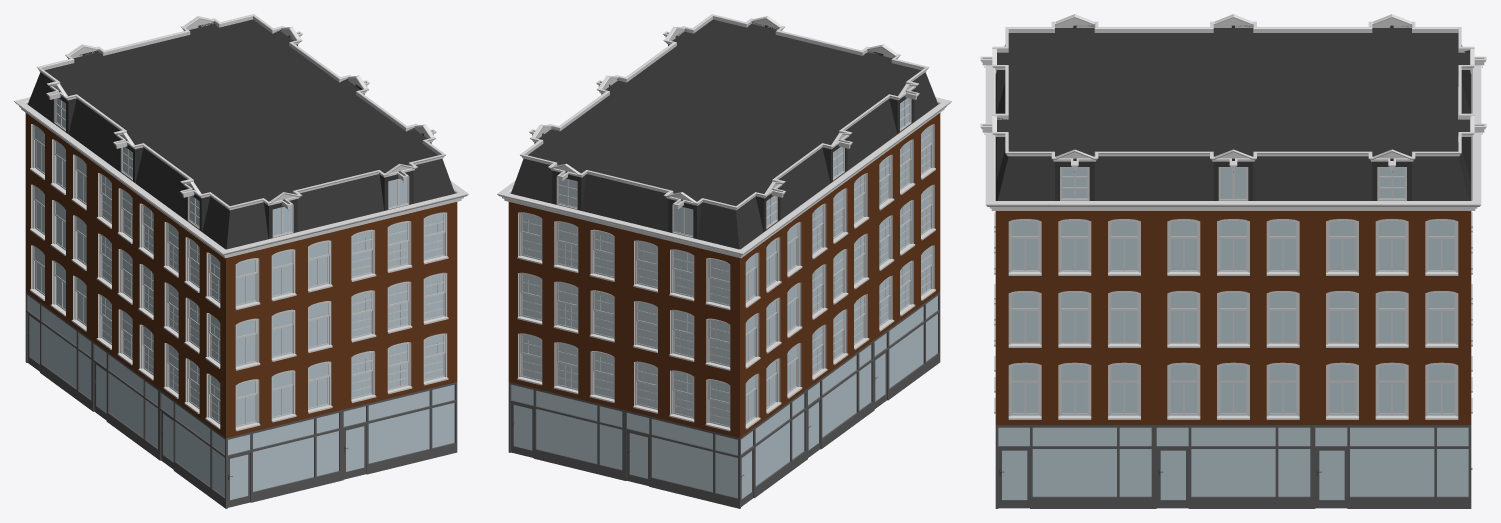
Rendered from 3x2_Commercial.fbx.
3 renders of one model, left to right at view 1: azimuth 30°, elevation 25°; view 2: azimuth 150°, elevation 25°; view 3: azimuth 270°, elevation 25°, orthographic. The views are drawn at different scales.
Visible parts, largest first — view 1: Roof Plane Clone.001; view 2: Roof Plane Clone.001; view 3: Roof Plane Clone.001.
Boxes of the visible parts, x1,y1,x2,y2 form: Roof Plane Clone.001: (14, 14, 468, 508); Roof Plane Clone.001: (497, 14, 951, 508); Roof Plane Clone.001: (980, 14, 1486, 508).
Size of the model in its own units: 13.14 by 15 by 19.14.
